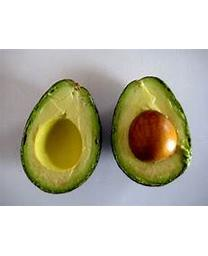avocado: (19, 78, 102, 195), (110, 76, 192, 187)
